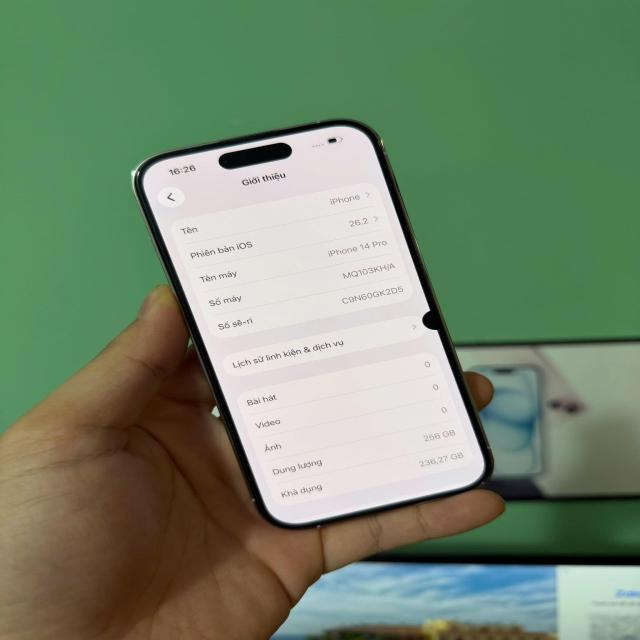gen_14: (130, 119, 494, 532)
screen_defect: (420, 303, 446, 336)
